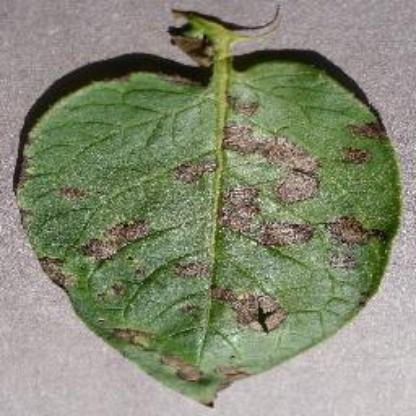Early-Blight: (15, 6, 403, 408)
